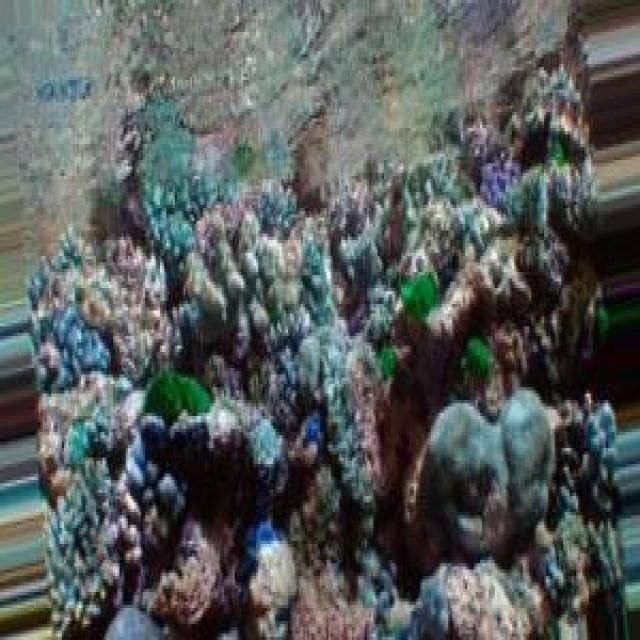Healthy: (42, 23, 624, 640)
